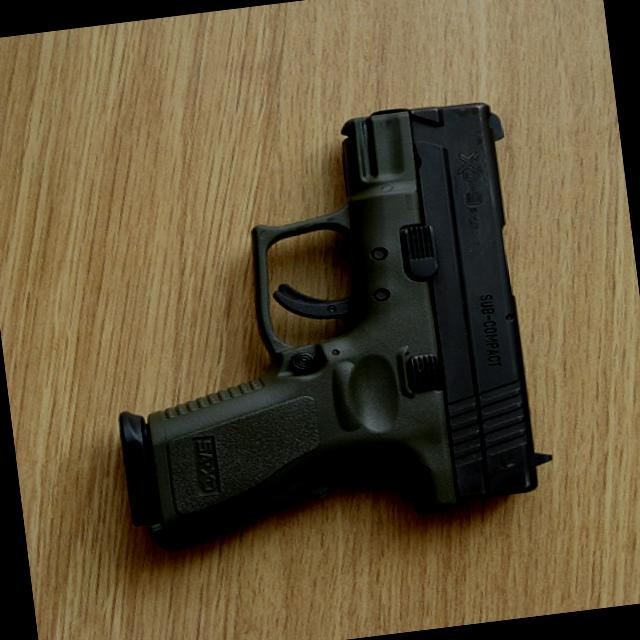handgun: (81, 92, 558, 557)
